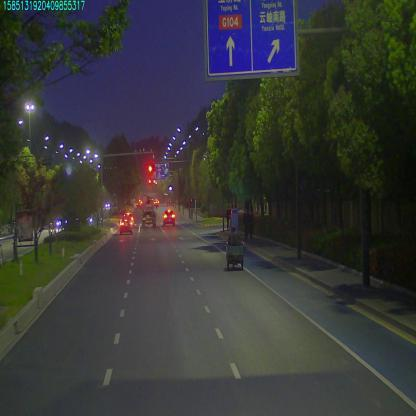traffic-light: (148, 164, 154, 174)
